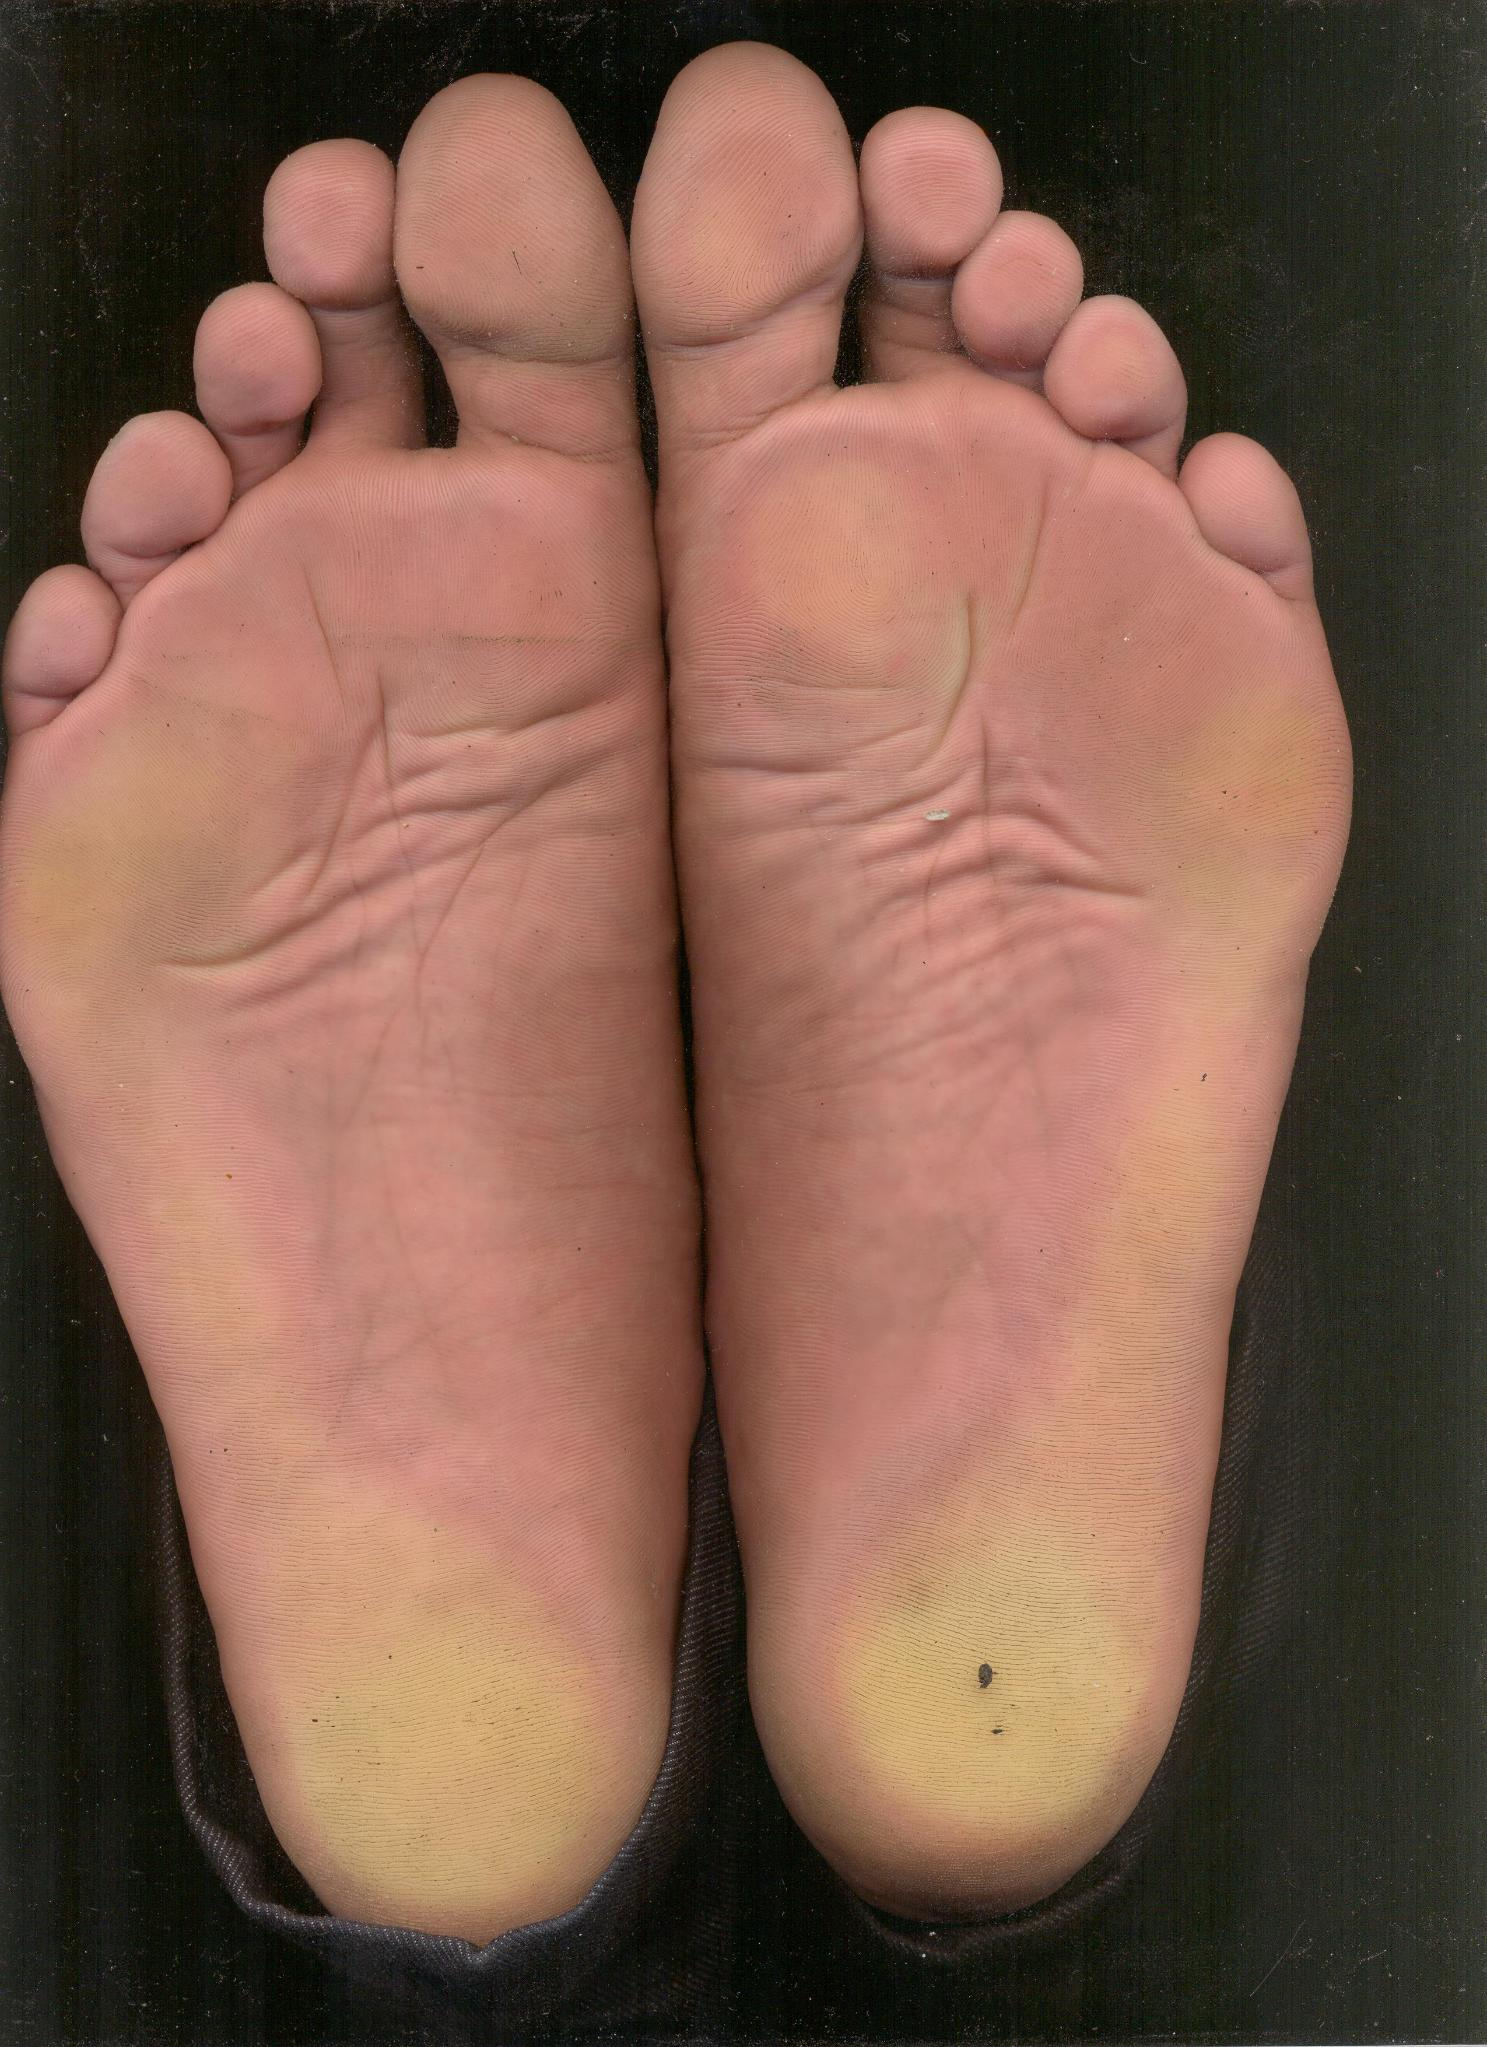Present: (635, 0, 1382, 1960), (6, 64, 736, 1966)
